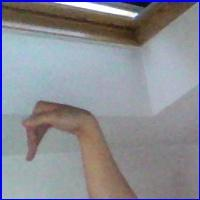del: (20, 96, 100, 169)
